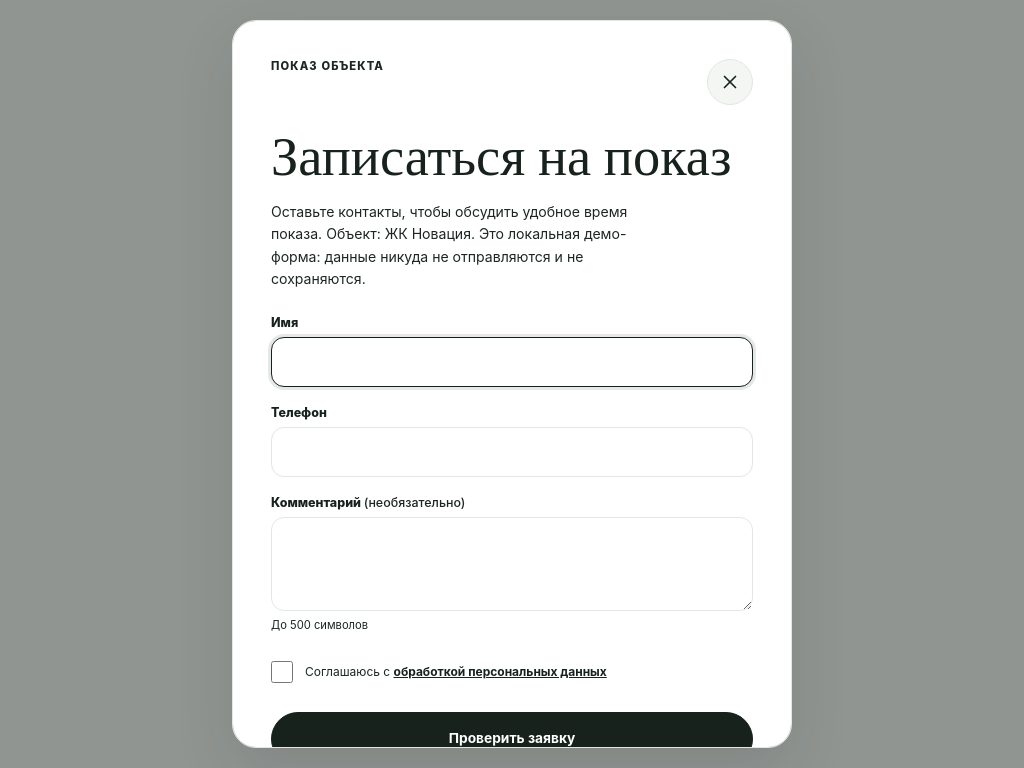
Test: LeadDialog › shows demo success without transmitting data
This screenshot has width=1024, height=768.
Type "Илья" into the field labelled "Имя". click: (512, 362)
box: [271, 337, 753, 387]
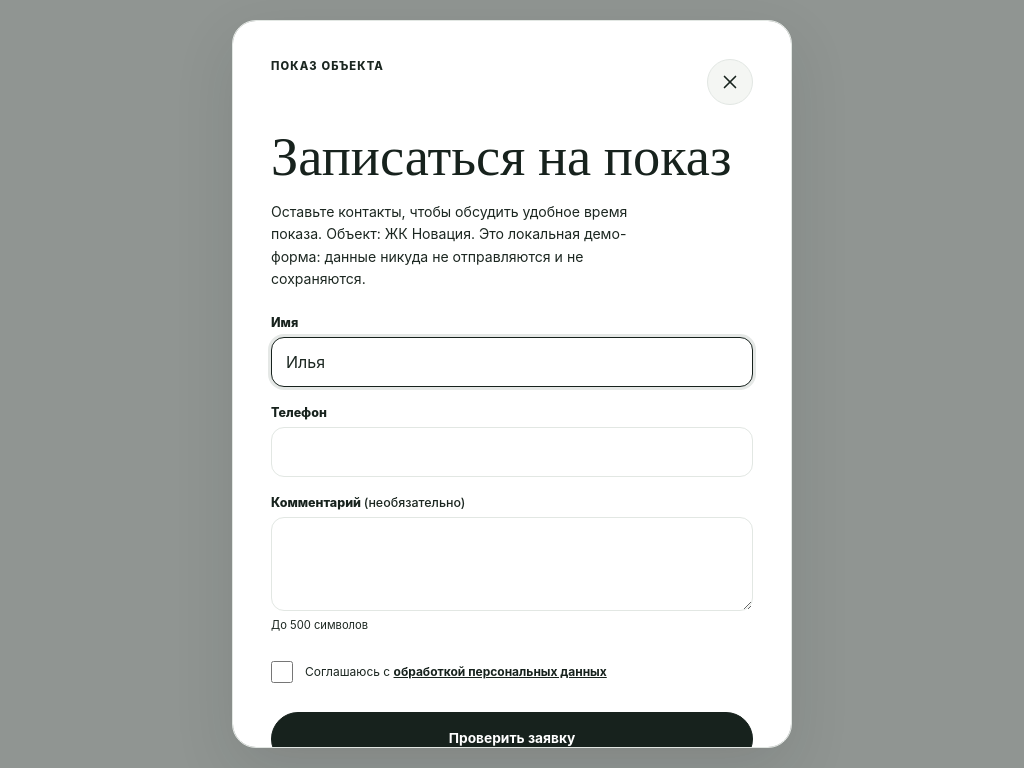
Type "+7 910 000-00-00" into the field labelled "Телефон". click: (512, 452)
box: [271, 427, 753, 477]
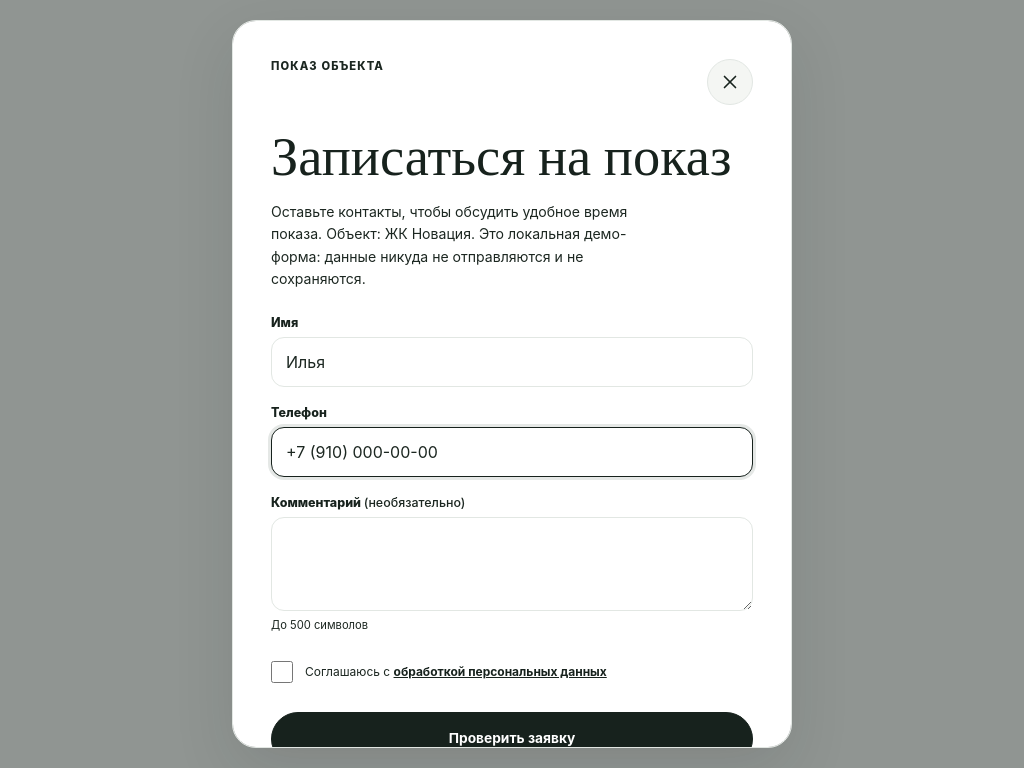
Click the checkbox named "согласие". click: (282, 672)
box: [271, 661, 293, 683]
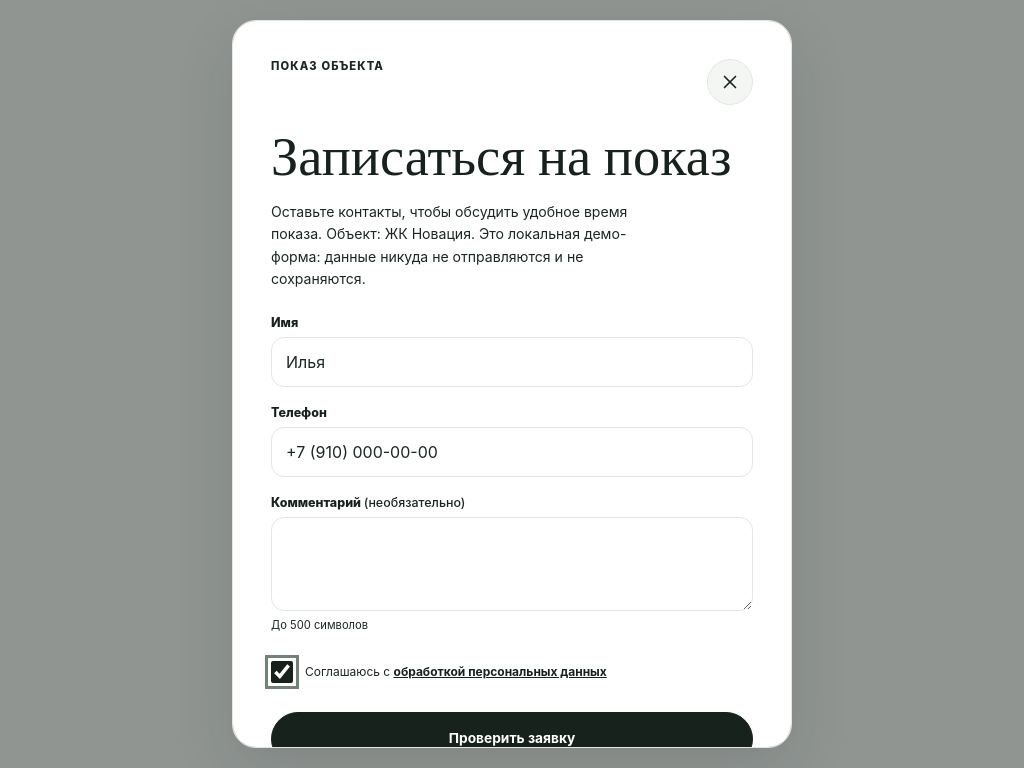
Click the button "Проверить заявку". click: (512, 739)
box: [271, 712, 753, 766]
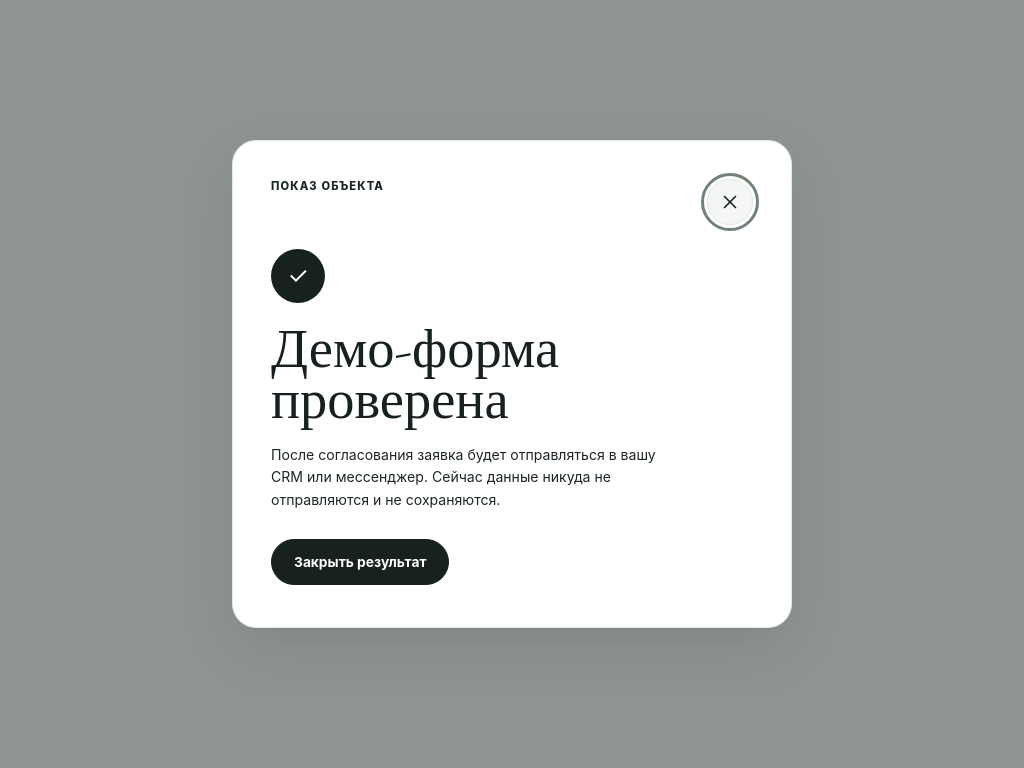
Now the heading "Демо-форма проверена" is shown, box [271, 316, 559, 434]
Now the text "Сейчас данные никуда не отправляются и не сохраняются" is shown, box [271, 446, 656, 508]
